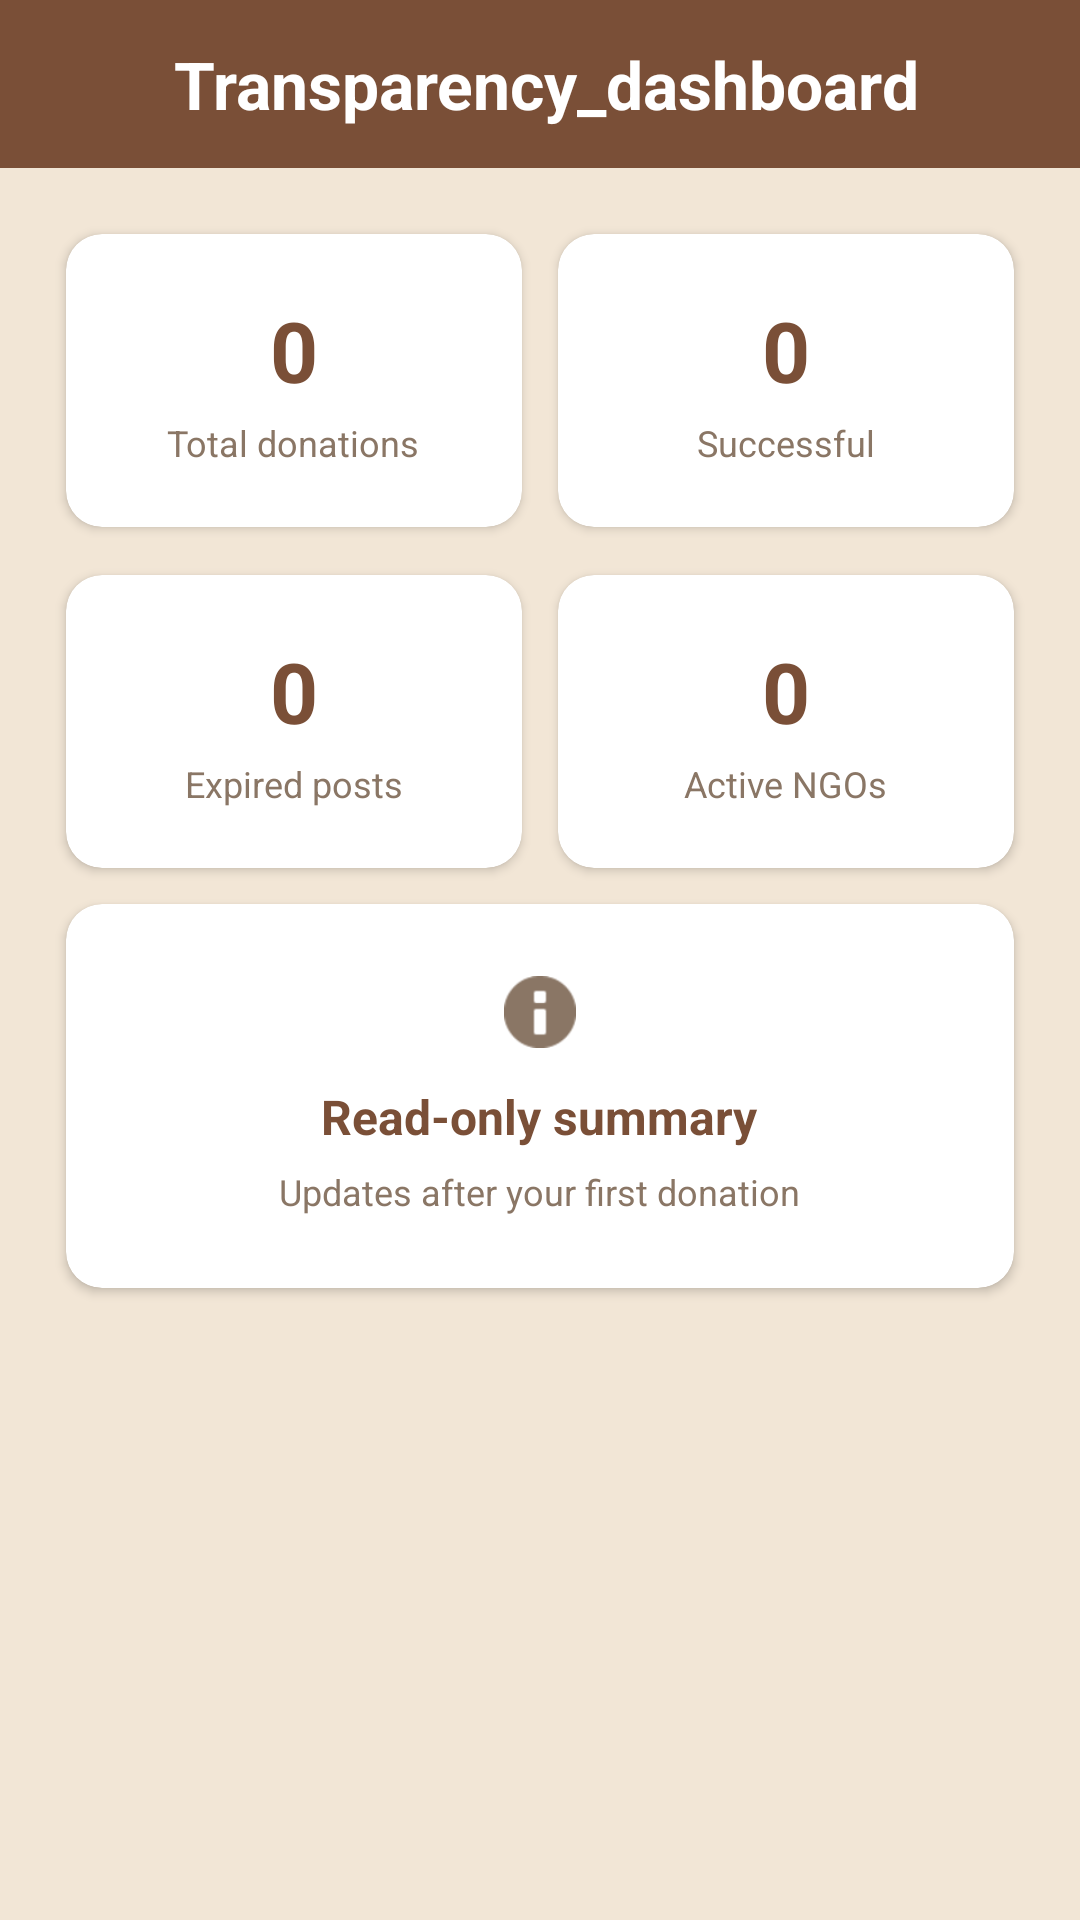

Where icons sit on this 1080x1920 app screen, as [left=x1, top=y1, right=x2, bottom=y2]:
info: [left=504, top=976, right=576, bottom=1048]
